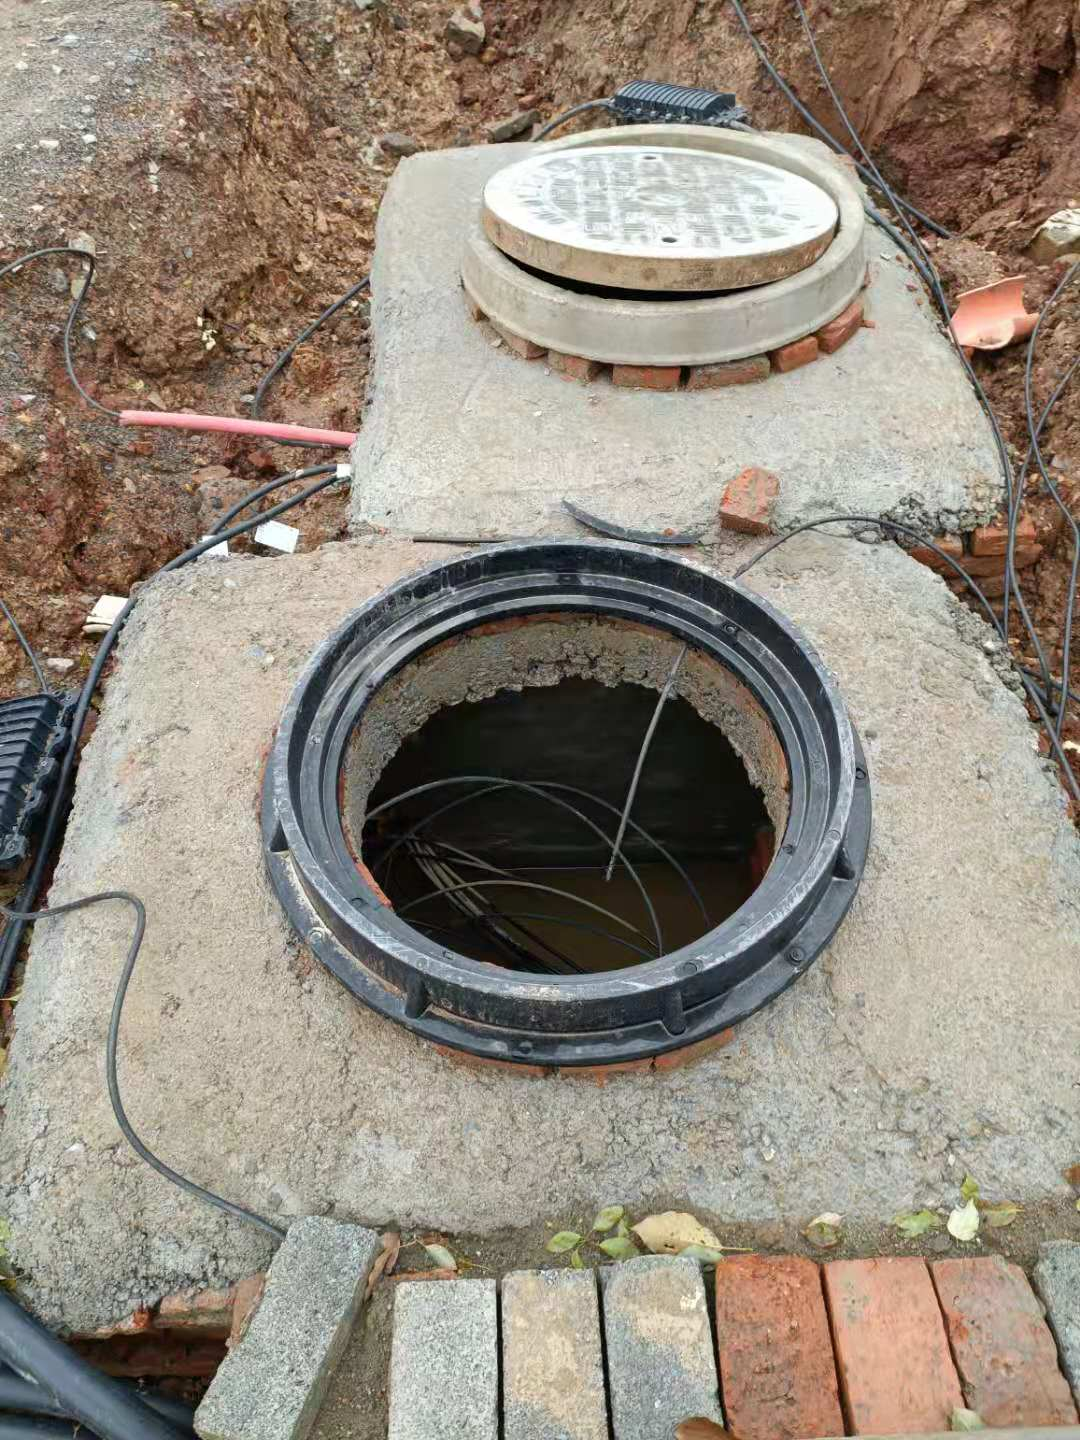well: (272, 535, 871, 1071), (358, 1256, 1080, 1440), (458, 96, 871, 379)
